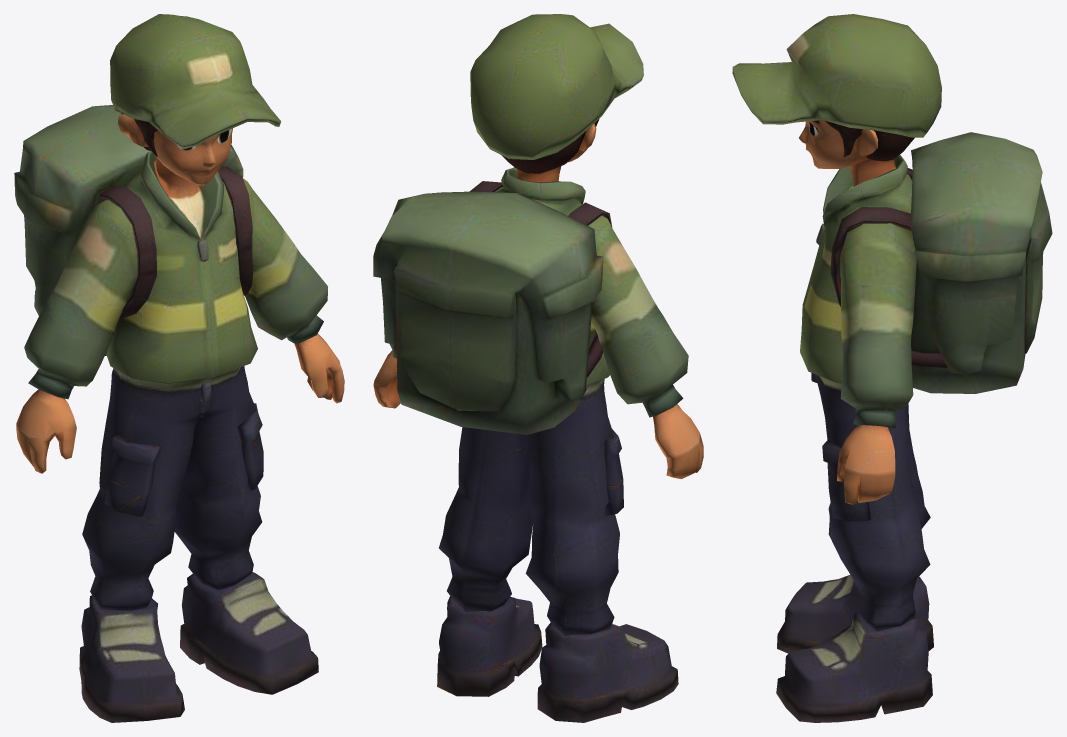
File: Trail_Guard.glb
The picture shows the model from 3 angles, left to right: view 1: azimuth 30°, elevation 25°; view 2: azimuth 150°, elevation 25°; view 3: azimuth 270°, elevation 25°; orthographic projection.
Parts seen in each view (by area): view 1: geometry_0; view 2: geometry_0; view 3: geometry_0.
Boxes of the visible parts, box(x1,y1,x2,y2) form: geometry_0: box(14, 14, 344, 722); geometry_0: box(373, 14, 703, 722); geometry_0: box(732, 14, 1052, 722).
Size of the model in its own units: 0.4966 by 1 by 0.4452.
1 material, 1 textured.
